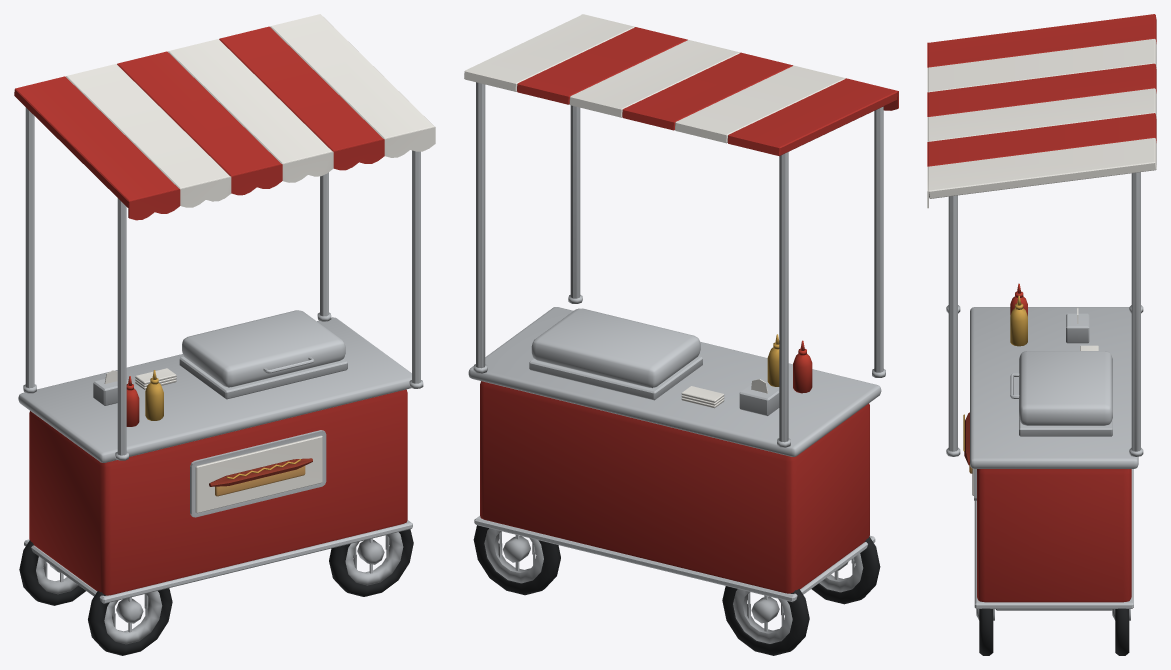
File: hotDogStand.glb
3 renders of one model, left to right at view 1: azimuth 30°, elevation 25°; view 2: azimuth 150°, elevation 25°; view 3: azimuth 270°, elevation 25°, orthographic. The views are drawn at different scales.
Visible parts, largest first — view 1: body, lid; view 2: body, lid; view 3: body, lid.
Part boxes in pixels (left/top/right/bottom): body: left=14, top=14, right=435, bottom=655; lid: left=182, top=310, right=345, bottom=387; body: left=464, top=14, right=898, bottom=655; lid: left=531, top=308, right=700, bottom=387; body: left=927, top=14, right=1156, bottom=655; lid: left=1010, top=351, right=1112, bottom=425.
Bounding box in the file's own units: 1.58 × 2.38 × 0.9795.
